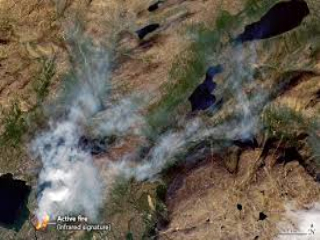smoke: (26, 99, 174, 214)
